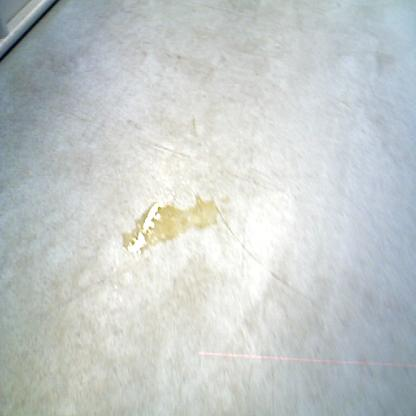liquid: (120, 192, 220, 255), (220, 194, 230, 205)
mark: (212, 199, 260, 263), (202, 53, 227, 83), (375, 49, 396, 79), (270, 270, 292, 290), (270, 361, 276, 415), (125, 118, 143, 132), (190, 113, 198, 137), (142, 38, 153, 47), (164, 51, 172, 59), (176, 53, 183, 61)
